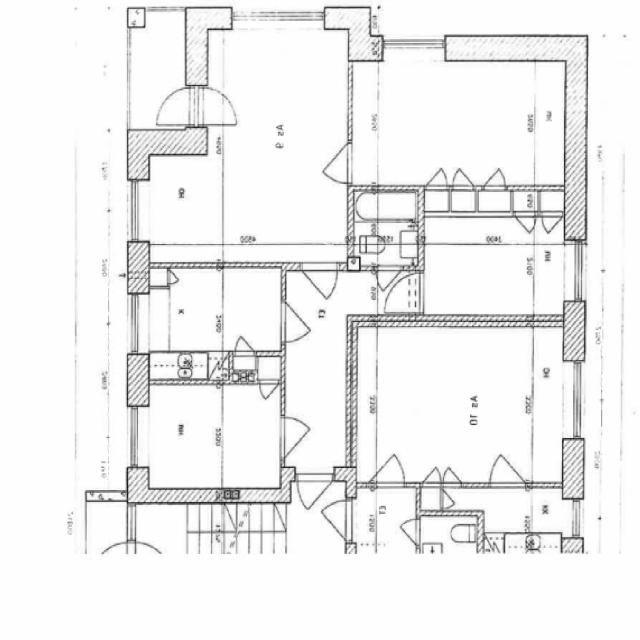door: (297, 468, 336, 529), (155, 86, 208, 125), (188, 86, 241, 125), (313, 140, 354, 182), (282, 416, 322, 458), (303, 264, 338, 311), (385, 273, 425, 312), (281, 303, 319, 341), (374, 264, 402, 301), (484, 158, 507, 190), (453, 160, 475, 190), (427, 161, 448, 190), (542, 211, 563, 240), (516, 211, 536, 239), (261, 380, 280, 408), (236, 329, 254, 357), (168, 272, 182, 283)
